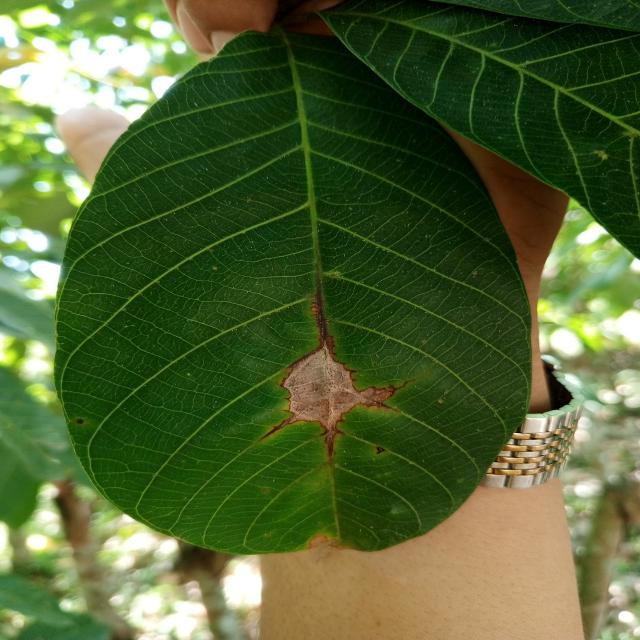Colletotrichum: (76, 418, 84, 424)
Corynespora: (288, 286, 336, 368), (258, 417, 296, 442), (382, 377, 420, 398), (317, 428, 344, 456), (373, 401, 404, 414)
Leaf-Blight: (284, 346, 391, 433)
